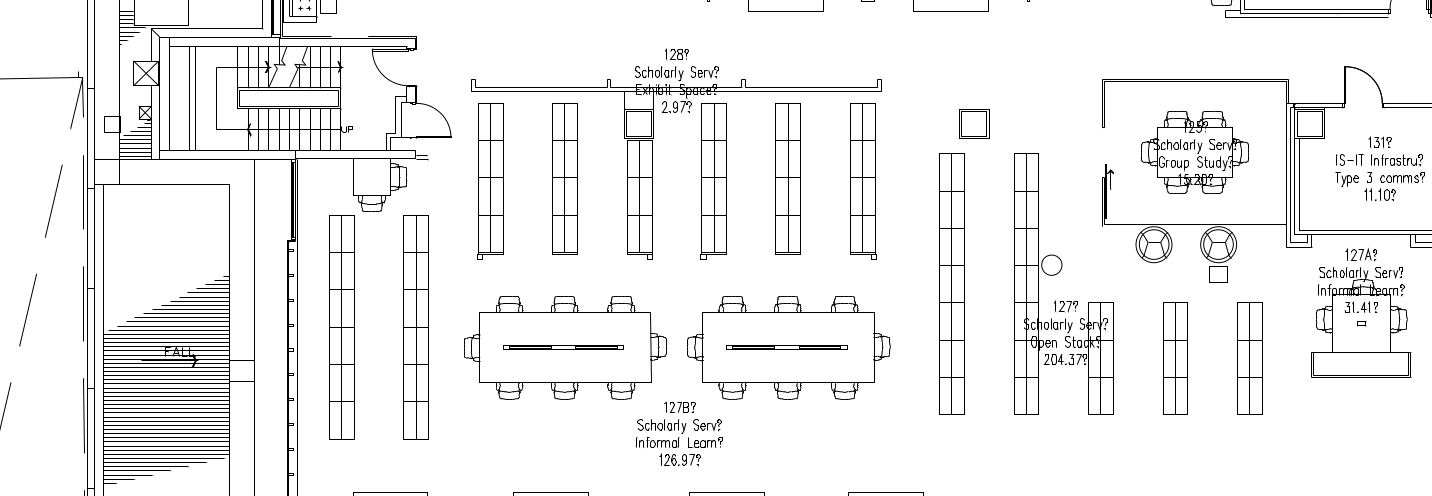door: (1338, 58, 1384, 112), (365, 47, 408, 89), (415, 100, 458, 142)
